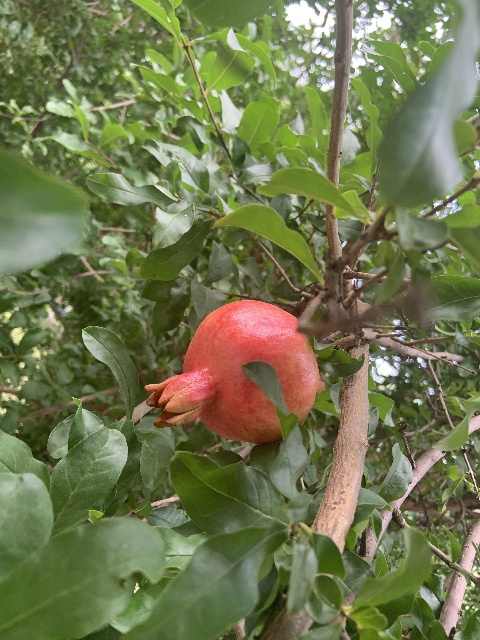ripe: (144, 300, 319, 443)
